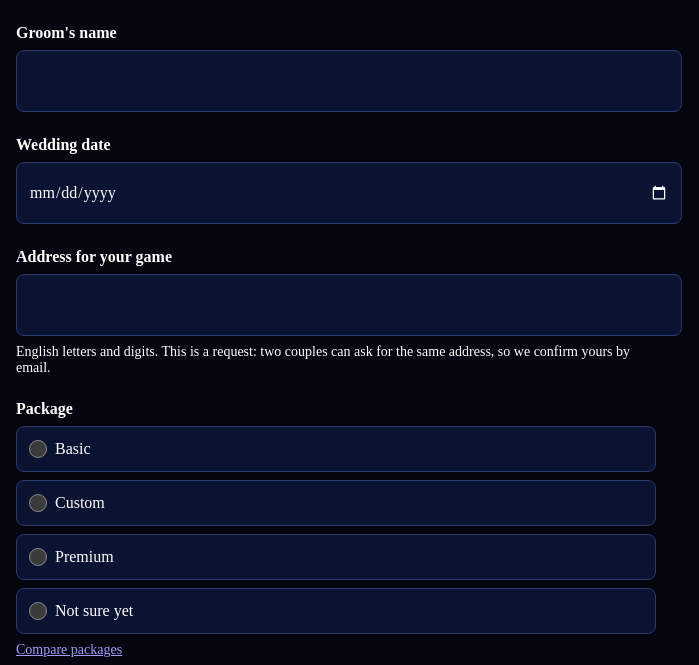
OrderPage (component): address field › test_slug_status_live: pricing is reserved
(page scrolled)
Type "pricing" into the field labelled "Address for your game".
click(349, 305); type("pricing")  # box [16, 274, 682, 336]
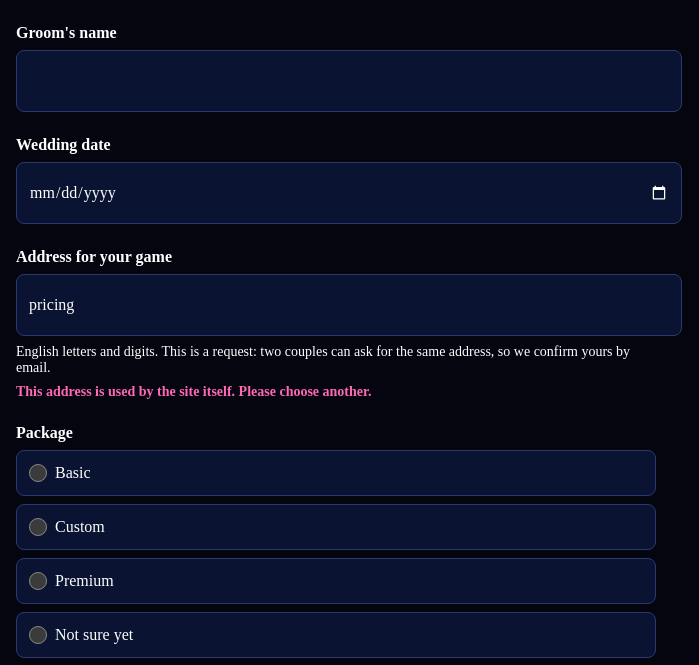
Now the message with test id "order-slug-status" reads "This address is used by the site itself. Please choose another.", box [16, 384, 372, 399]
